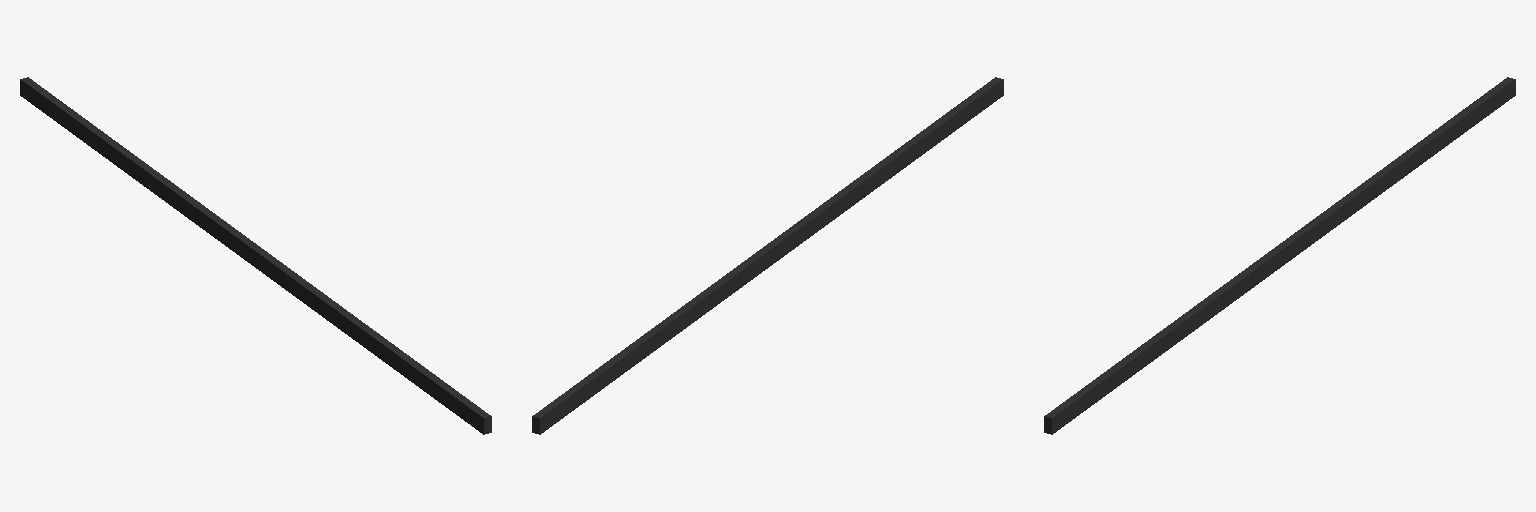
robot.urdf — wall:
<robot name="wall">
  <link name="baseLink">
   
    <inertial>
      <origin rpy="0 0 0" xyz="0 0 0" />
       <mass value="10" />
       <inertia ixx="0" ixy="0" ixz="0" iyy="0" iyz="0" izz="0" />
    </inertial>
    <visual>
      <origin rpy="0 0 0" xyz="0 0 0" />
      <geometry>
			  <box size="0.1 10.1 0.2" />
      </geometry>
       <material name="grey">
        <color rgba="0.24 0.24 0.24 1" />
      </material>
    </visual>
    <collision>
      <origin rpy="0 0 0" xyz="0 0 0" />
      <geometry>
	 	      <box size="0.1 10.1 0.2" />
      </geometry>
    </collision>
  </link>
</robot>

--- Facts derived from the render (not from the file) ---
The picture shows the robot from 3 angles, left to right: view 1: azimuth 30°, elevation 25°; view 2: azimuth 150°, elevation 25°; view 3: azimuth 330°, elevation 25°; orthographic projection.
Robot: wall — 1 links, 0 joints (none); root link baseLink; default pose: every joint at zero.
Links seen in each view (by area): view 1: baseLink; view 2: baseLink; view 3: baseLink.
Boxes of the visible links, <box> form: baseLink: <box>20,77,491,434</box>; baseLink: <box>532,77,1003,434</box>; baseLink: <box>1044,77,1515,434</box>.
Size in the robot's own frame: 0.1 by 10.1 by 0.2 metres.
Geometry: primitives only (box / cylinder / sphere), no mesh files.
